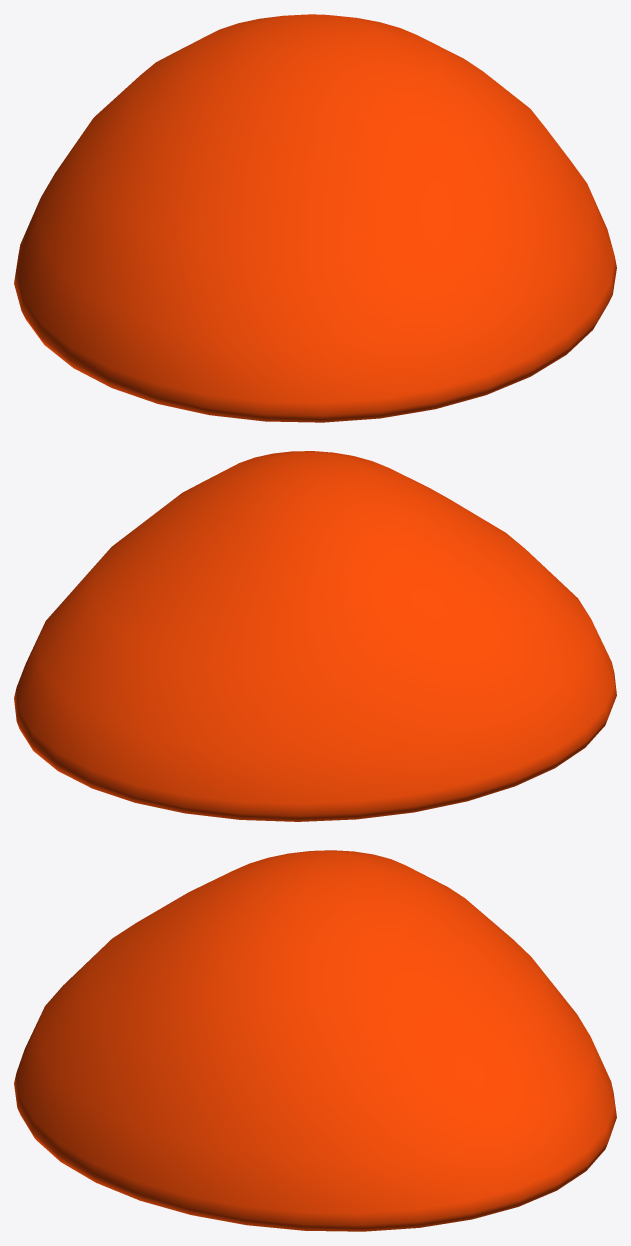
Rendered from Stage4_sh_1_root.fbx.
3 views of the same model, one above another, from view 1: azimuth 30°, elevation 25°; view 2: azimuth 150°, elevation 25°; view 3: azimuth 270°, elevation 25° (orthographic). The views are drawn at different scales.
Parts seen in each view (by area): view 1: Stage4_sh_1_sh_2, Stage4_sh_1_sh_1, Stage4_sh_1_sh_5, Stage4_sh_1_sh_3; view 2: Stage4_sh_1_sh_1, Stage4_sh_1_sh_4, Stage4_sh_1_sh_3, Stage4_sh_1_sh_2, Stage4_sh_1_sh_5; view 3: Stage4_sh_1_sh_4, Stage4_sh_1_sh_5, Stage4_sh_1_sh_1, Stage4_sh_1_sh_2.
Boxes of the visible parts, x1,y1,x2,y2 form: Stage4_sh_1_sh_2: [53, 188, 569, 422]; Stage4_sh_1_sh_1: [14, 14, 514, 354]; Stage4_sh_1_sh_5: [389, 25, 616, 353]; Stage4_sh_1_sh_3: [64, 176, 353, 330]; Stage4_sh_1_sh_1: [213, 451, 570, 821]; Stage4_sh_1_sh_4: [14, 491, 293, 821]; Stage4_sh_1_sh_3: [453, 501, 592, 723]; Stage4_sh_1_sh_2: [483, 519, 616, 759]; Stage4_sh_1_sh_5: [143, 451, 305, 522]; Stage4_sh_1_sh_4: [287, 907, 616, 1231]; Stage4_sh_1_sh_5: [56, 918, 350, 1228]; Stage4_sh_1_sh_1: [83, 850, 522, 1050]; Stage4_sh_1_sh_2: [14, 922, 147, 1162].
Size of the model in its own units: 54.13 by 24.54 by 55.31.
